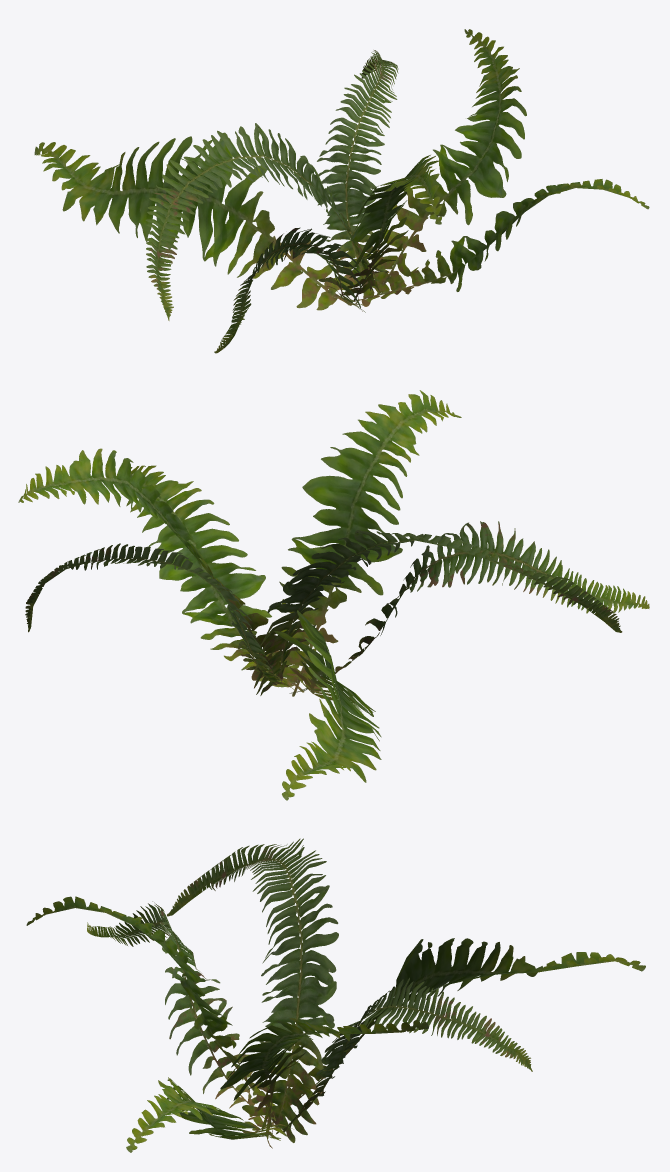
Rendered from Plant_D.glb.
3 views of the same model, one above another, from view 1: azimuth 30°, elevation 25°; view 2: azimuth 150°, elevation 25°; view 3: azimuth 270°, elevation 25° (orthographic). The views are drawn at different scales.
Parts seen in each view (by area): view 1: Plant_D_instance.001; view 2: Plant_D_instance.001; view 3: Plant_D_instance.001.
Boxes of the visible parts, left/top/right/bottom form: Plant_D_instance.001: left=34, top=29, right=649, bottom=353; Plant_D_instance.001: left=18, top=390, right=649, bottom=800; Plant_D_instance.001: left=26, top=838, right=645, bottom=1152.
Bounding box in the file's own units: 0.5728 × 0.2429 × 0.5933.
1 material, 1 textured.
